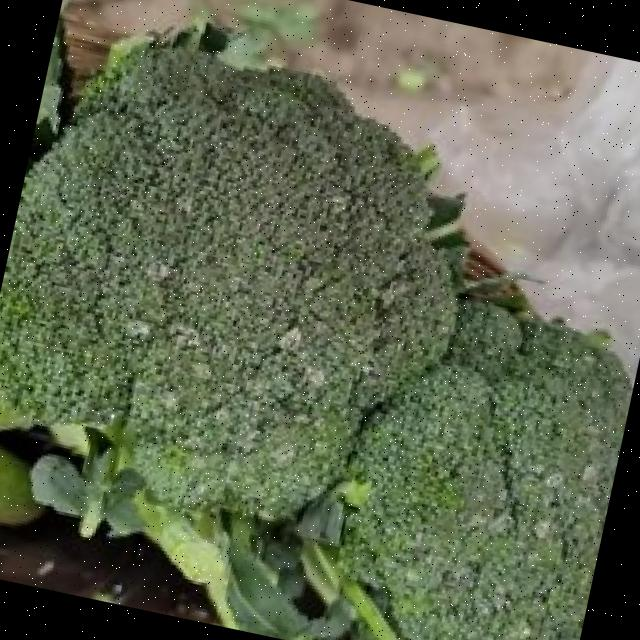Broccoli: (0, 45, 632, 640), (0, 45, 631, 640)
